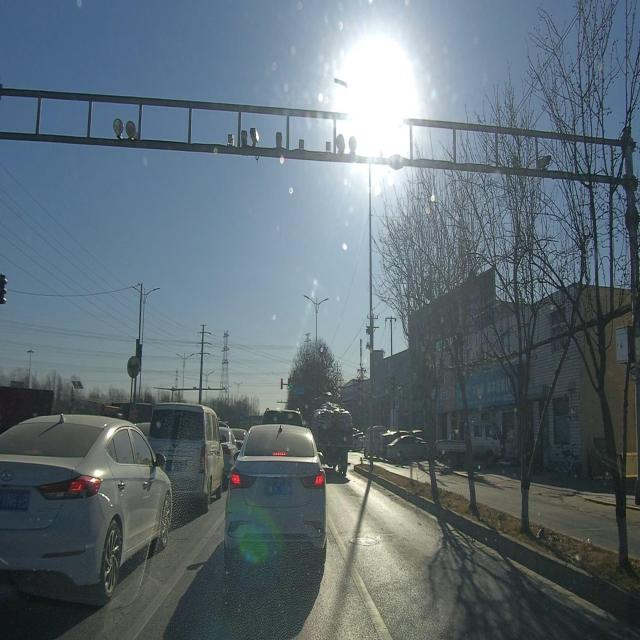Traffic Light -Green-: (287, 377, 291, 391)
Traffic Light -Off-: (0, 271, 7, 306)
Traffic Light -Red-: (280, 378, 284, 390)
